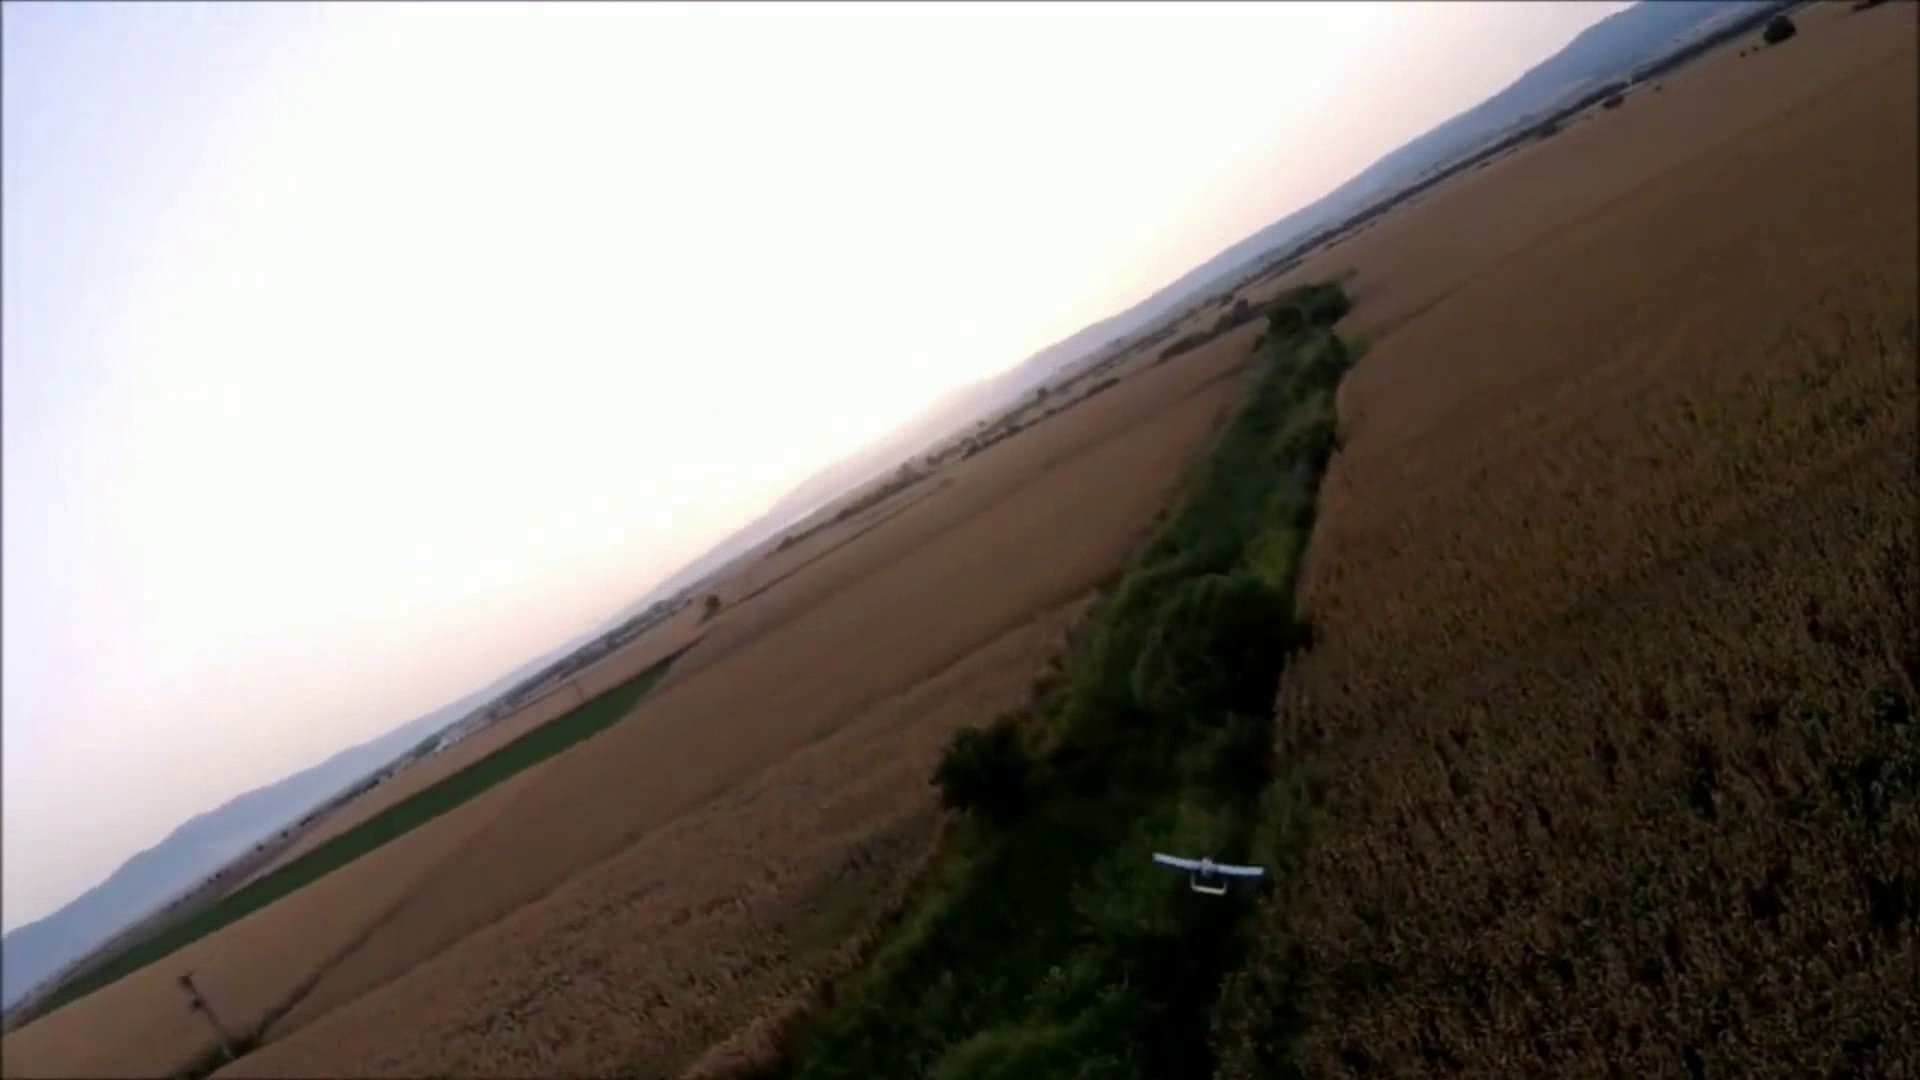airplane: (1151, 852, 1273, 898)
